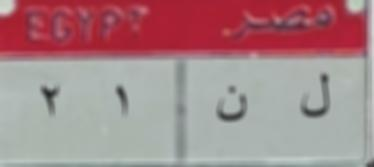1: (111, 79, 134, 126)
2: (37, 81, 66, 128)
laam: (295, 68, 334, 125)
noon: (212, 80, 252, 130)
